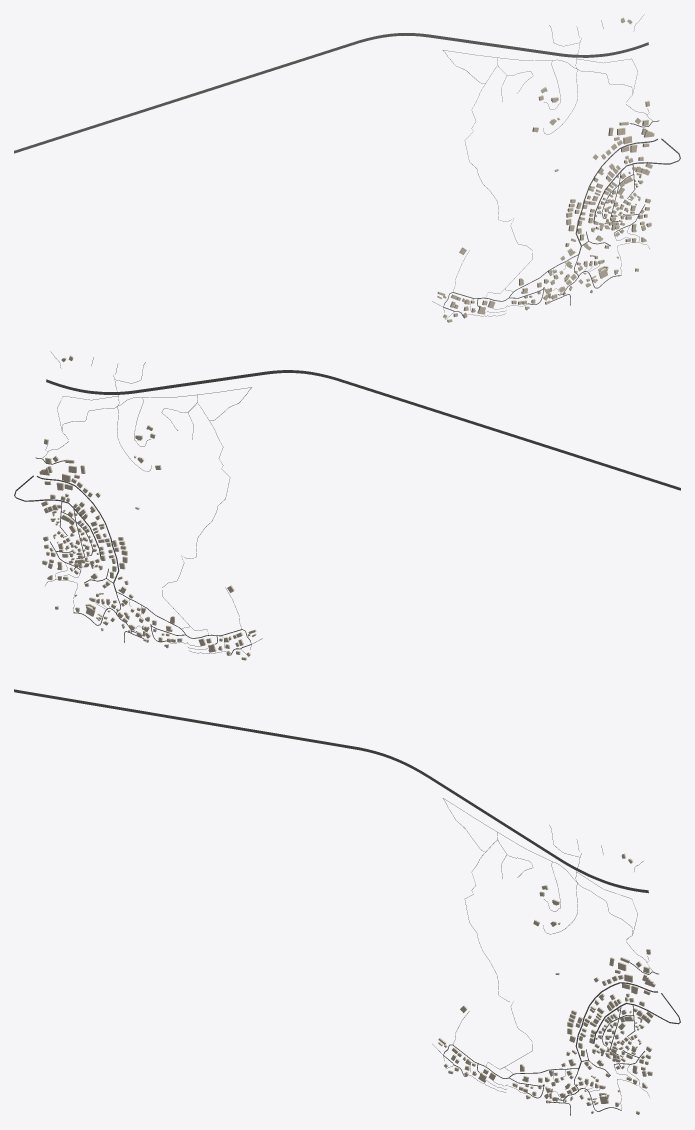
Rendered from historic-palestine-09_23_3511_3179.glb.
3 renders of one model, top to bottom at view 1: azimuth 30°, elevation 25°; view 2: azimuth 150°, elevation 25°; view 3: azimuth 330°, elevation 25°, orthographic.
Parts seen in each view (by area): view 1: Road כביש ירושלים תל אביב; view 2: Road כביש ירושלים תל אביב; view 3: Road כביש ירושלים תל אביב.
Boxes of the visible parts, x1,y1,x2,y2 form: Road כביש ירושלים תל אביב: (14,33,648,153); Road כביש ירושלים תל אביב: (46,370,680,490); Road כביש ירושלים תל אביב: (14,689,648,893).
Size of the model in its own units: 2927 by 1329 by 8.7.
